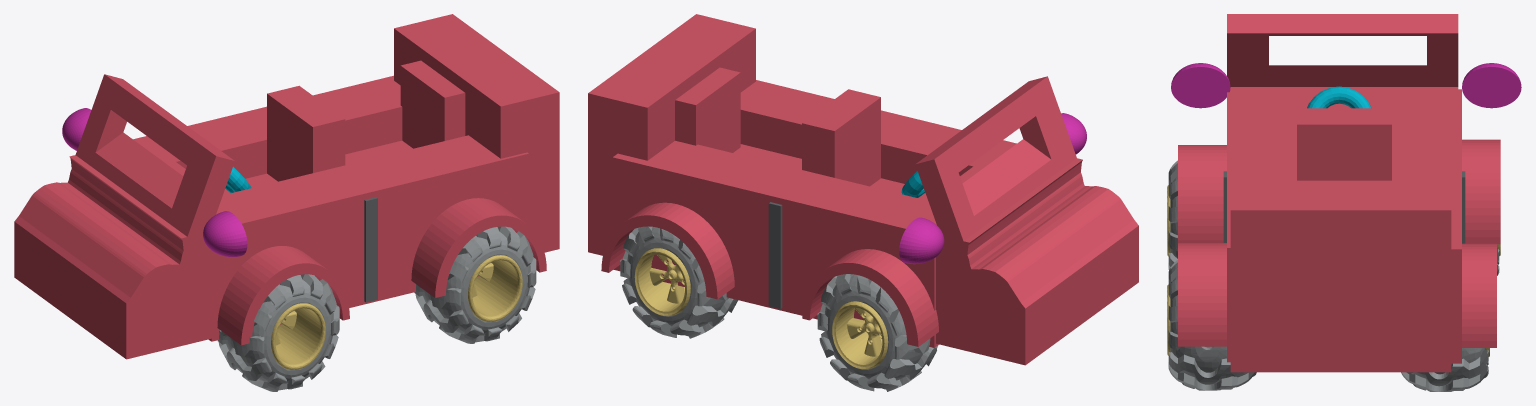
File: car.glb
3 views of the same model, side by side, from view 1: azimuth 30°, elevation 25°; view 2: azimuth 150°, elevation 25°; view 3: azimuth 270°, elevation 25° (orthographic). The views are drawn at different scales.
Visible parts, largest first — view 1: Mesh_Mesh_head_geo.001_lambert2SG.001; view 2: Mesh_Mesh_head_geo.001_lambert2SG.001; view 3: Mesh_Mesh_head_geo.001_lambert2SG.001.
Part boxes in pixels (x1,y1,x2,y2): Mesh_Mesh_head_geo.001_lambert2SG.001: [14, 14, 559, 391]; Mesh_Mesh_head_geo.001_lambert2SG.001: [588, 14, 1138, 391]; Mesh_Mesh_head_geo.001_lambert2SG.001: [1167, 14, 1521, 391].
Bounding box in the file's own units: 148 × 77 × 101.
